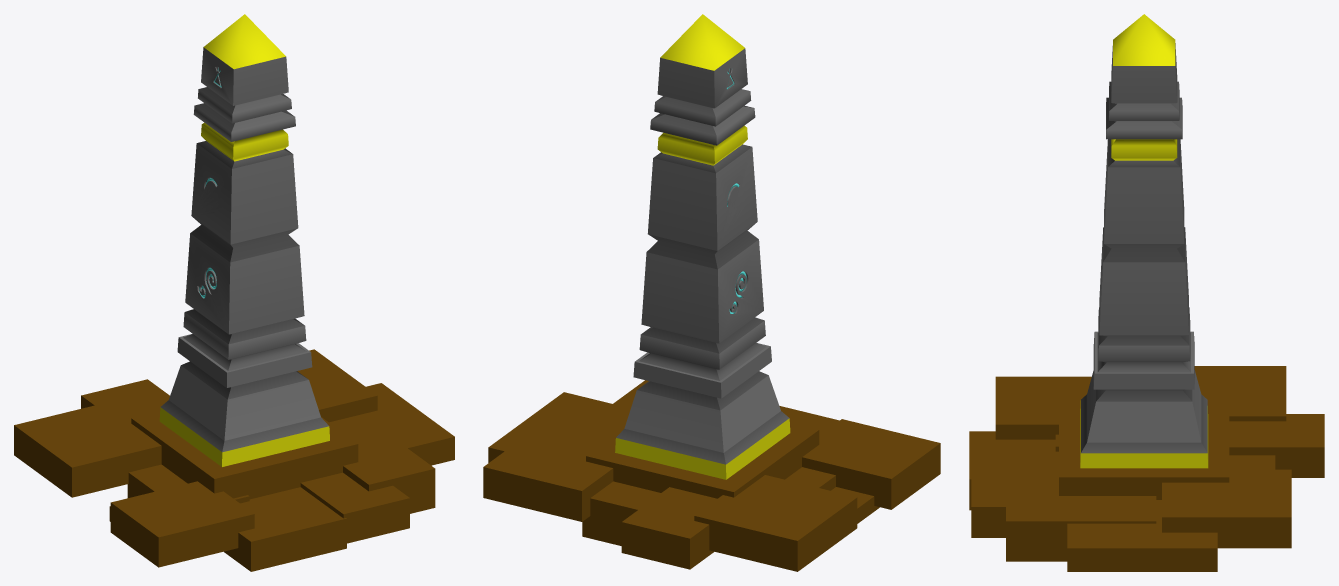
The model's file is obelisco.fbx.
The picture shows the model from 3 angles, left to right: view 1: azimuth 30°, elevation 25°; view 2: azimuth 150°, elevation 25°; view 3: azimuth 270°, elevation 25°; orthographic projection. The views are drawn at different scales.
Parts seen in each view (by area): view 1: pCube15; view 2: pCube15; view 3: pCube15.
Part boxes in pixels (x1,y1,x2,y2): pCube15: [14, 14, 454, 571]; pCube15: [483, 14, 940, 571]; pCube15: [969, 14, 1324, 571].
Bounding box in the file's own units: 232 × 316 × 209.
